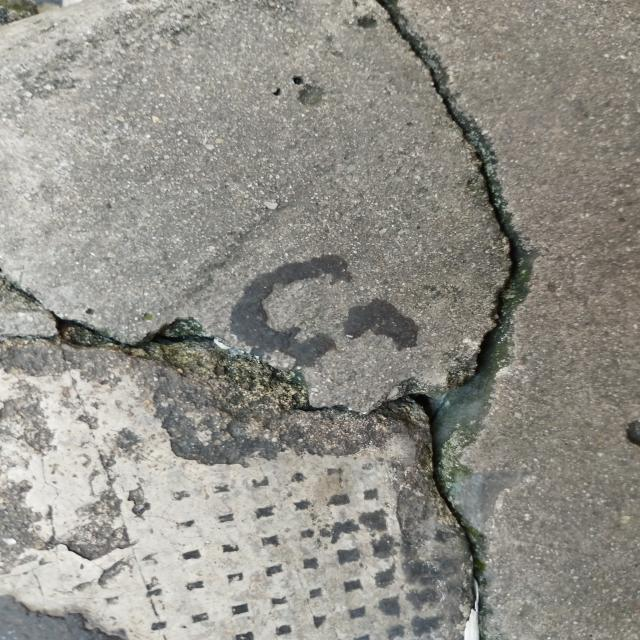branched cracks: (0, 0, 528, 639)
